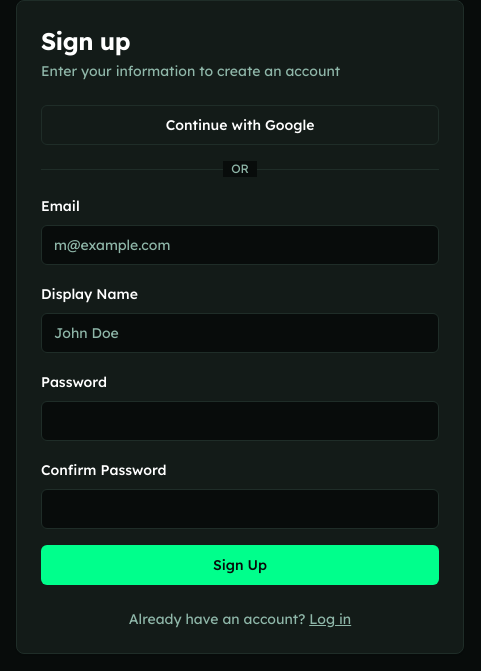
SignUpForm › should show loading state during signup
Type "test@example.com" into the field labelled "Email" at (240, 245), box [41, 225, 439, 265]
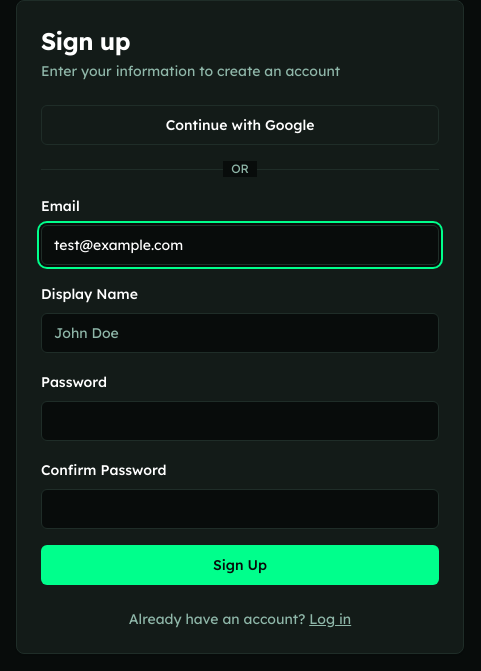
Type "Test User" into the field labelled "Display Name" at (240, 333), box [41, 313, 439, 353]
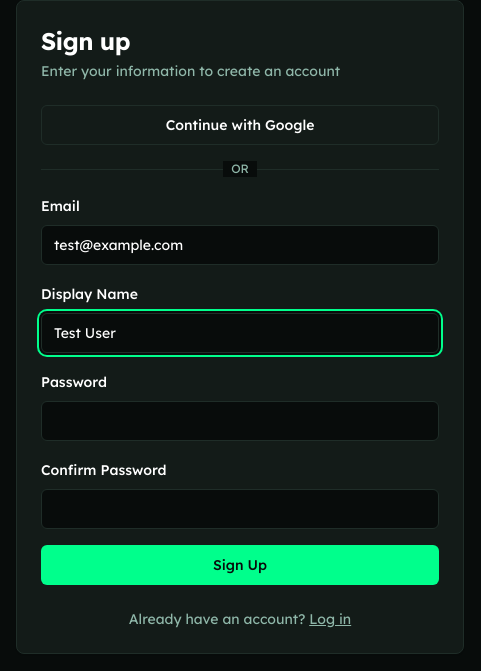
Type "password123" into the password field labelled "Password" at (240, 421), box [41, 401, 439, 441]
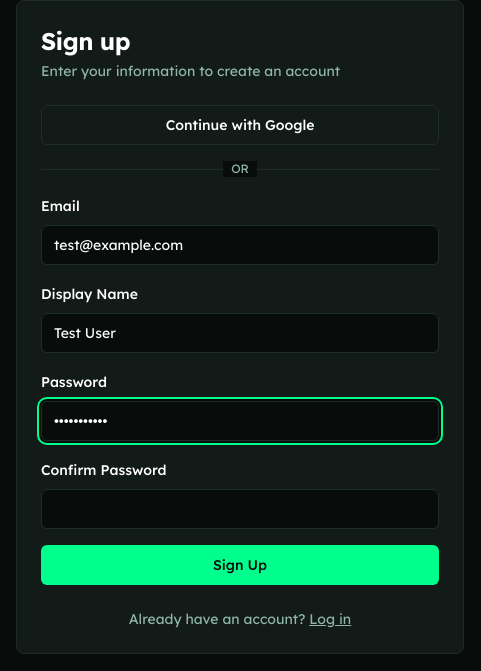
Type "password123" into the password field labelled "Confirm Password" at (240, 509), box [41, 489, 439, 529]
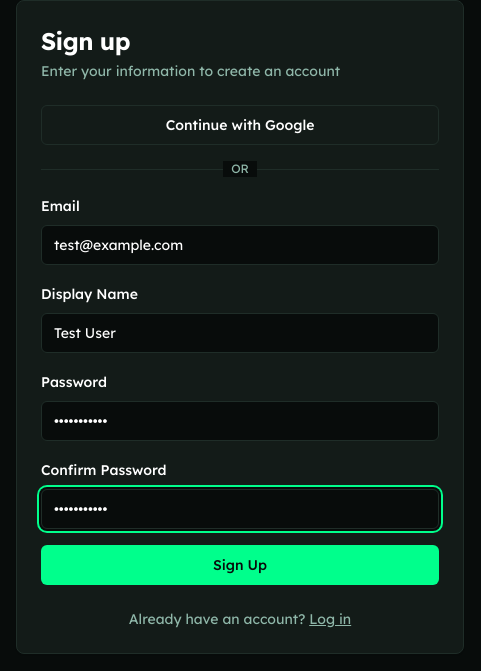
Click the button "Sign Up" at (240, 565), box [41, 545, 439, 585]
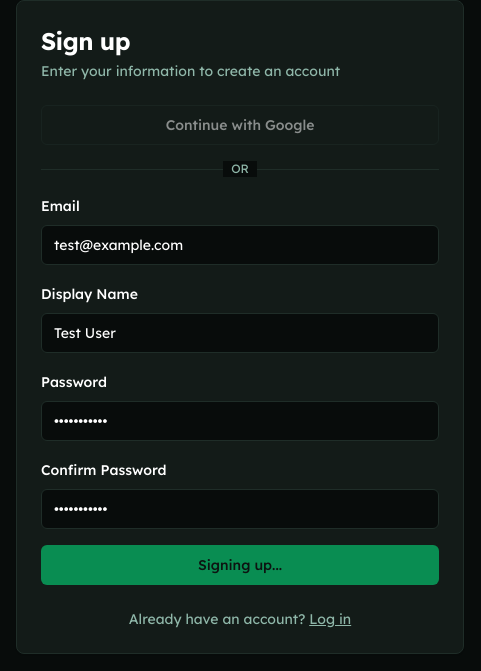
Check: the button "Signing up..." is disabled, box [41, 545, 439, 585]
